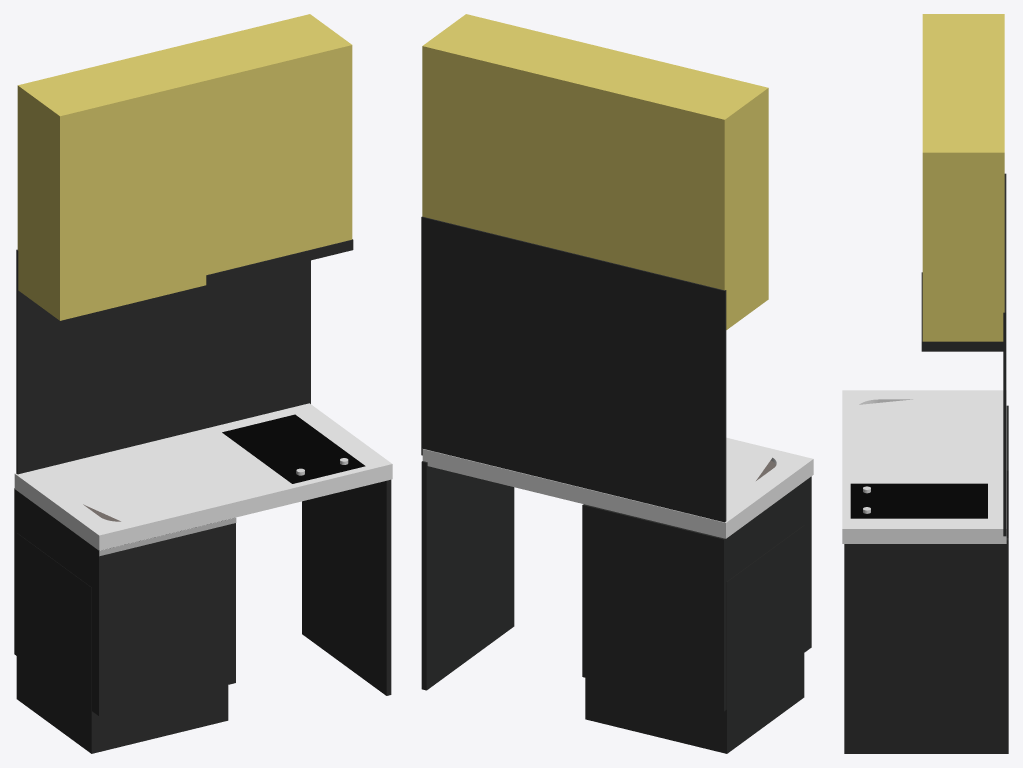
File: Cooker.fbx
3 views of the same model, side by side, from view 1: azimuth 30°, elevation 25°; view 2: azimuth 150°, elevation 25°; view 3: azimuth 270°, elevation 25° (orthographic). The views are drawn at different scales.
Visible parts, largest first — view 1: Closet.004, 큐브.016, Closet.005, 큐브.009, ComputerDesk.001, 큐브.010, 큐브.012, 큐브.011, 큐브.015, ClosetFrame1.007; view 2: 큐브.016, Closet.004, Closet.005, 큐브.009, 큐브.010, 큐브.012, ComputerDesk.001; view 3: 큐브.012, Closet.005, ComputerDesk.001, Closet.004, 큐브.011, 큐브.016, 큐브.015, 큐브.009.
Part boxes in pixels (x1,y1,x2,y2): Closet.004: (17, 49, 206, 320); 큐브.016: (16, 249, 310, 474); Closet.005: (164, 14, 352, 274); 큐브.009: (14, 488, 235, 716); ComputerDesk.001: (14, 403, 392, 550); 큐브.010: (16, 533, 228, 753); 큐브.012: (302, 479, 391, 695); 큐브.011: (222, 414, 365, 483); 큐브.015: (206, 239, 353, 285); ClosetFrame1.007: (99, 517, 236, 556); 큐브.016: (421, 216, 726, 522); Closet.004: (573, 51, 768, 329); Closet.005: (422, 14, 617, 253); 큐브.009: (582, 476, 811, 711); 큐브.010: (585, 525, 804, 753); 큐브.012: (421, 461, 514, 690); ComputerDesk.001: (422, 437, 813, 538); 큐브.012: (844, 538, 1008, 753); Closet.005: (922, 83, 1004, 341); ComputerDesk.001: (842, 390, 1006, 543); Closet.004: (922, 14, 1004, 83); 큐브.011: (850, 483, 987, 518); 큐브.016: (1003, 173, 1006, 536); 큐브.015: (921, 272, 1003, 351); 큐브.009: (1006, 405, 1008, 537).
Bounding box in the file's own units: 121 × 242 × 60.69.
